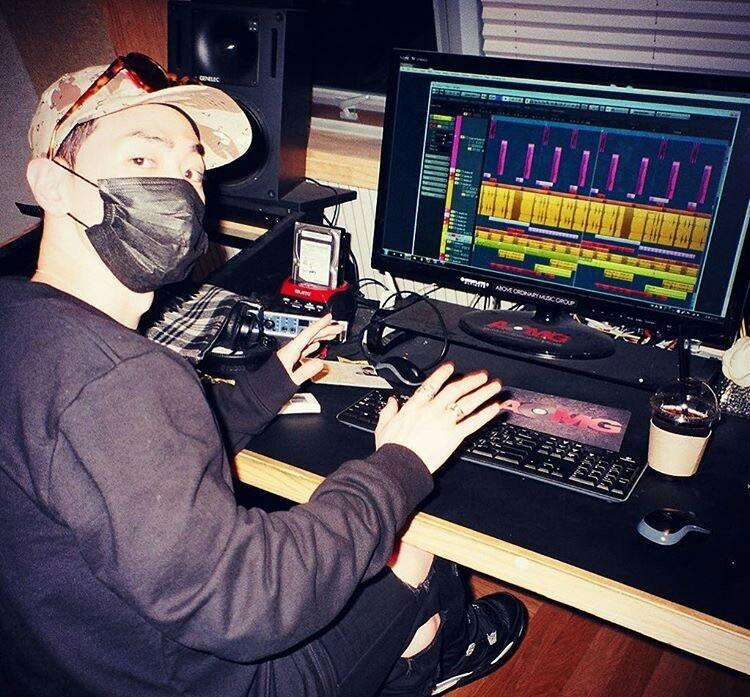OK: (46, 118, 217, 289)
